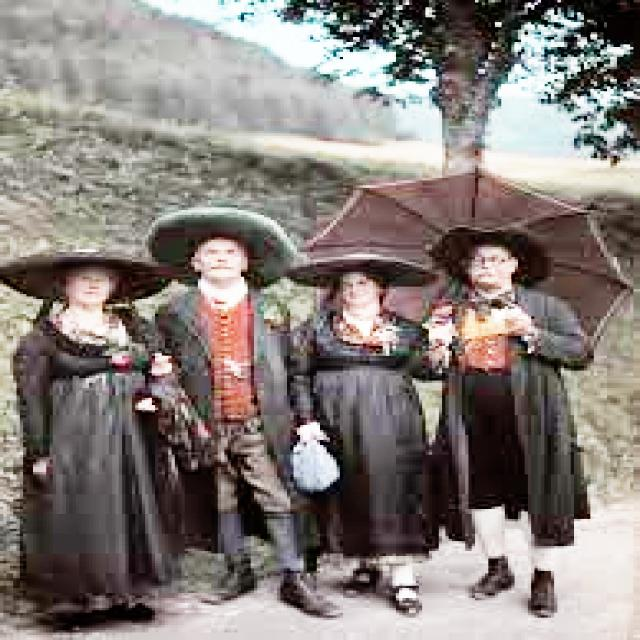TOPI: (135, 192, 300, 292), (0, 240, 175, 304), (425, 215, 561, 289), (274, 240, 442, 294)
